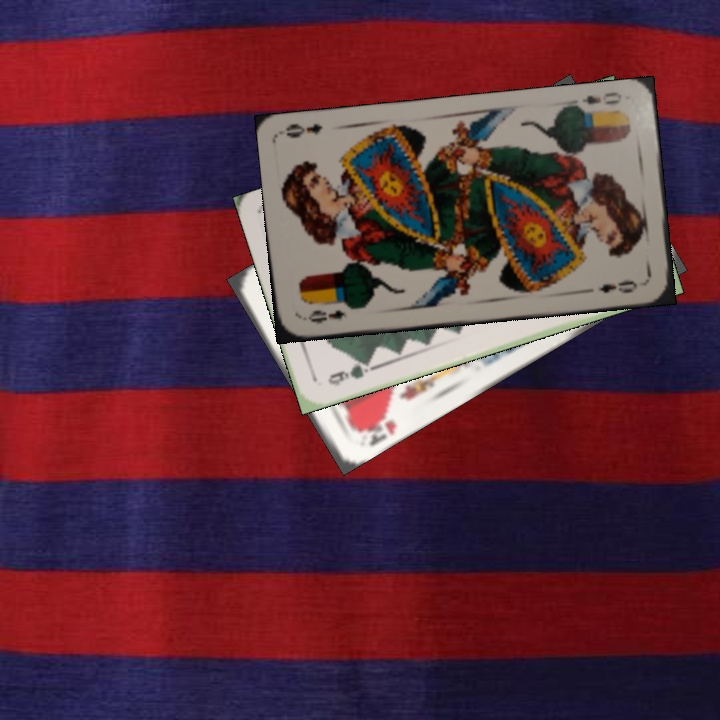EO: (300, 300, 358, 326), (578, 88, 625, 107)
G9: (324, 356, 376, 389)
HK: (352, 407, 400, 449)
